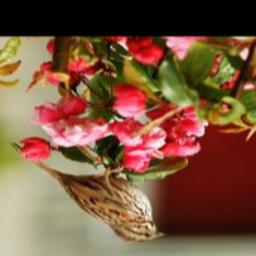Sparrow: (4, 138, 168, 246)
